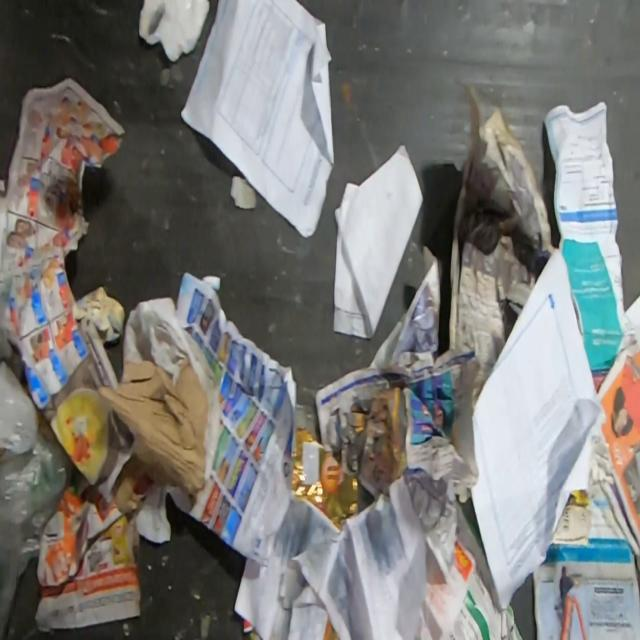cardboard: (96, 357, 208, 496)
soft_plastic: (0, 436, 68, 640), (290, 427, 358, 531), (0, 355, 40, 456), (322, 615, 341, 640), (243, 618, 257, 640)
